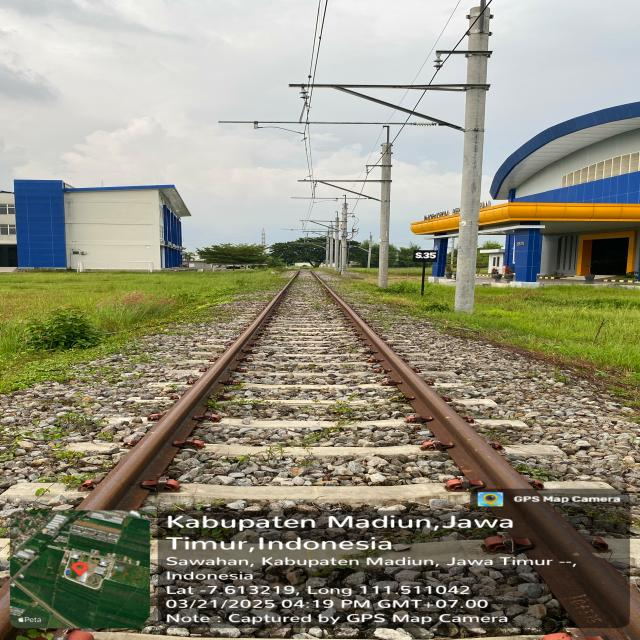rail-detection: (310, 269, 634, 628), (79, 270, 299, 510)
